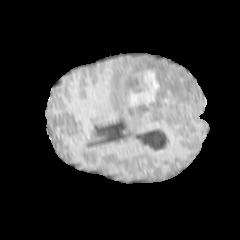glioma: (108, 58, 201, 132)
